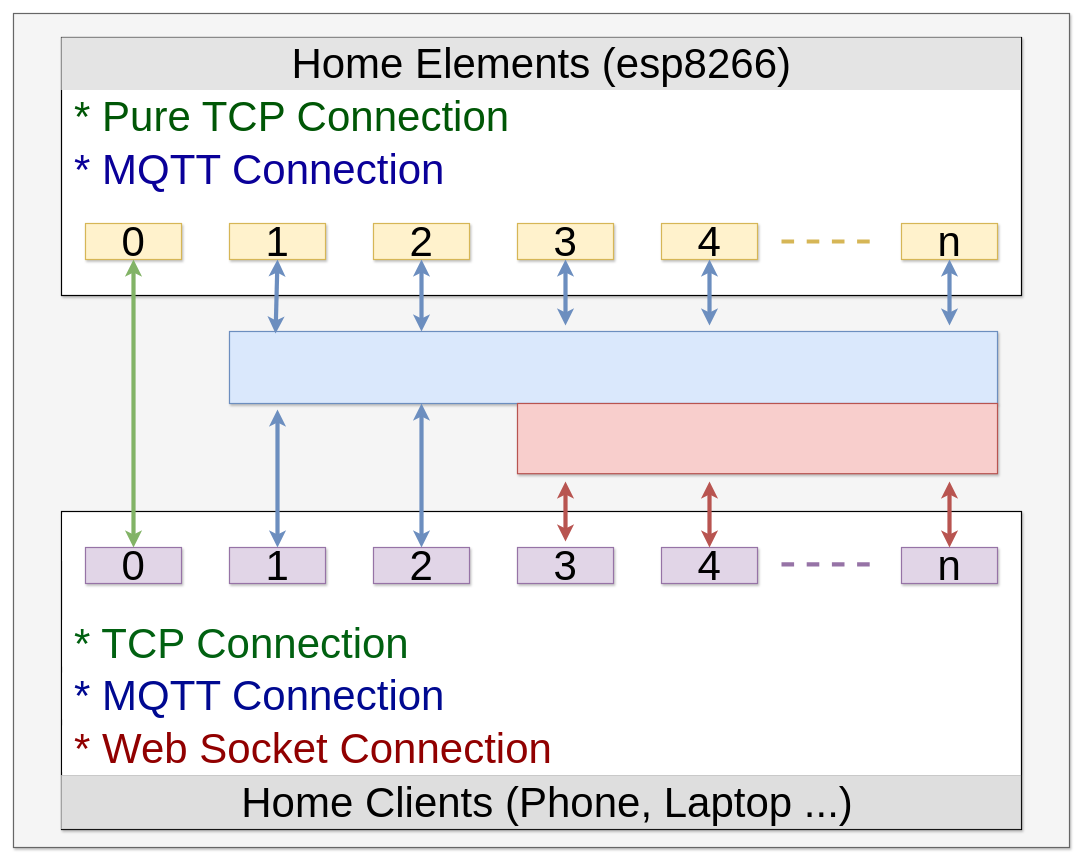
This 1084x862 diagram has some shape labels left out. Here are the shapes that lost their labels. From the top down, the centre of each, then its label:
At point 613,368: "MQTT Server (TCP port number 1883)".
At point 757,439: "Web Socket (TCP port number 80)".
